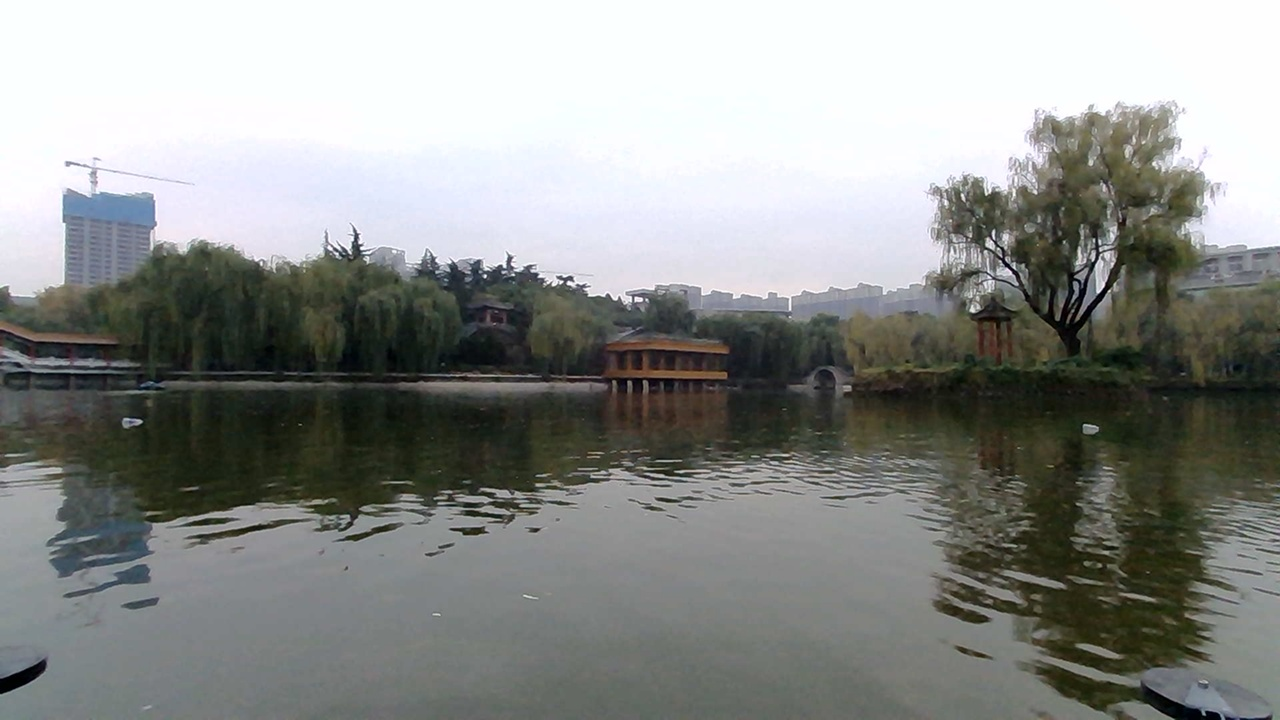bottle: (1074, 412, 1120, 446), (118, 406, 163, 430)
